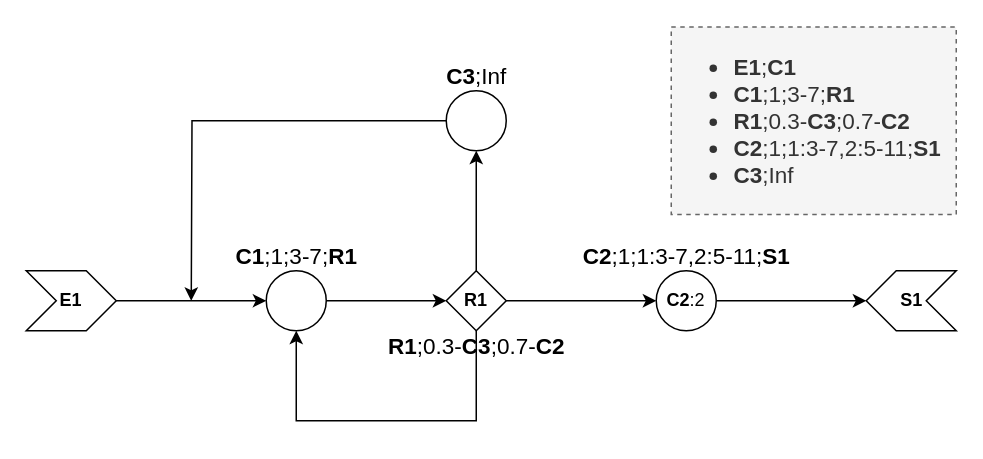
This 983x459 diagram has some shape labels left out. The box of each missing label's shape, as (x1, y1, x2, y2) in pixels:
C1 :1: (265, 269, 326, 331)
C3: -1: (445, 89, 506, 151)
